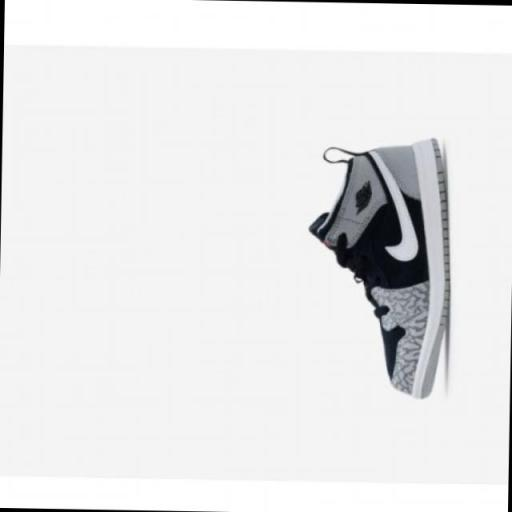Nike: (363, 149, 422, 262)
